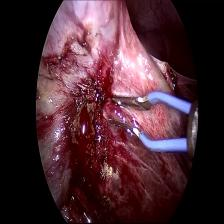Bipolar: (107, 84, 202, 156)
